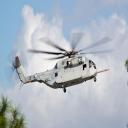helicopter: (12, 31, 115, 95)
